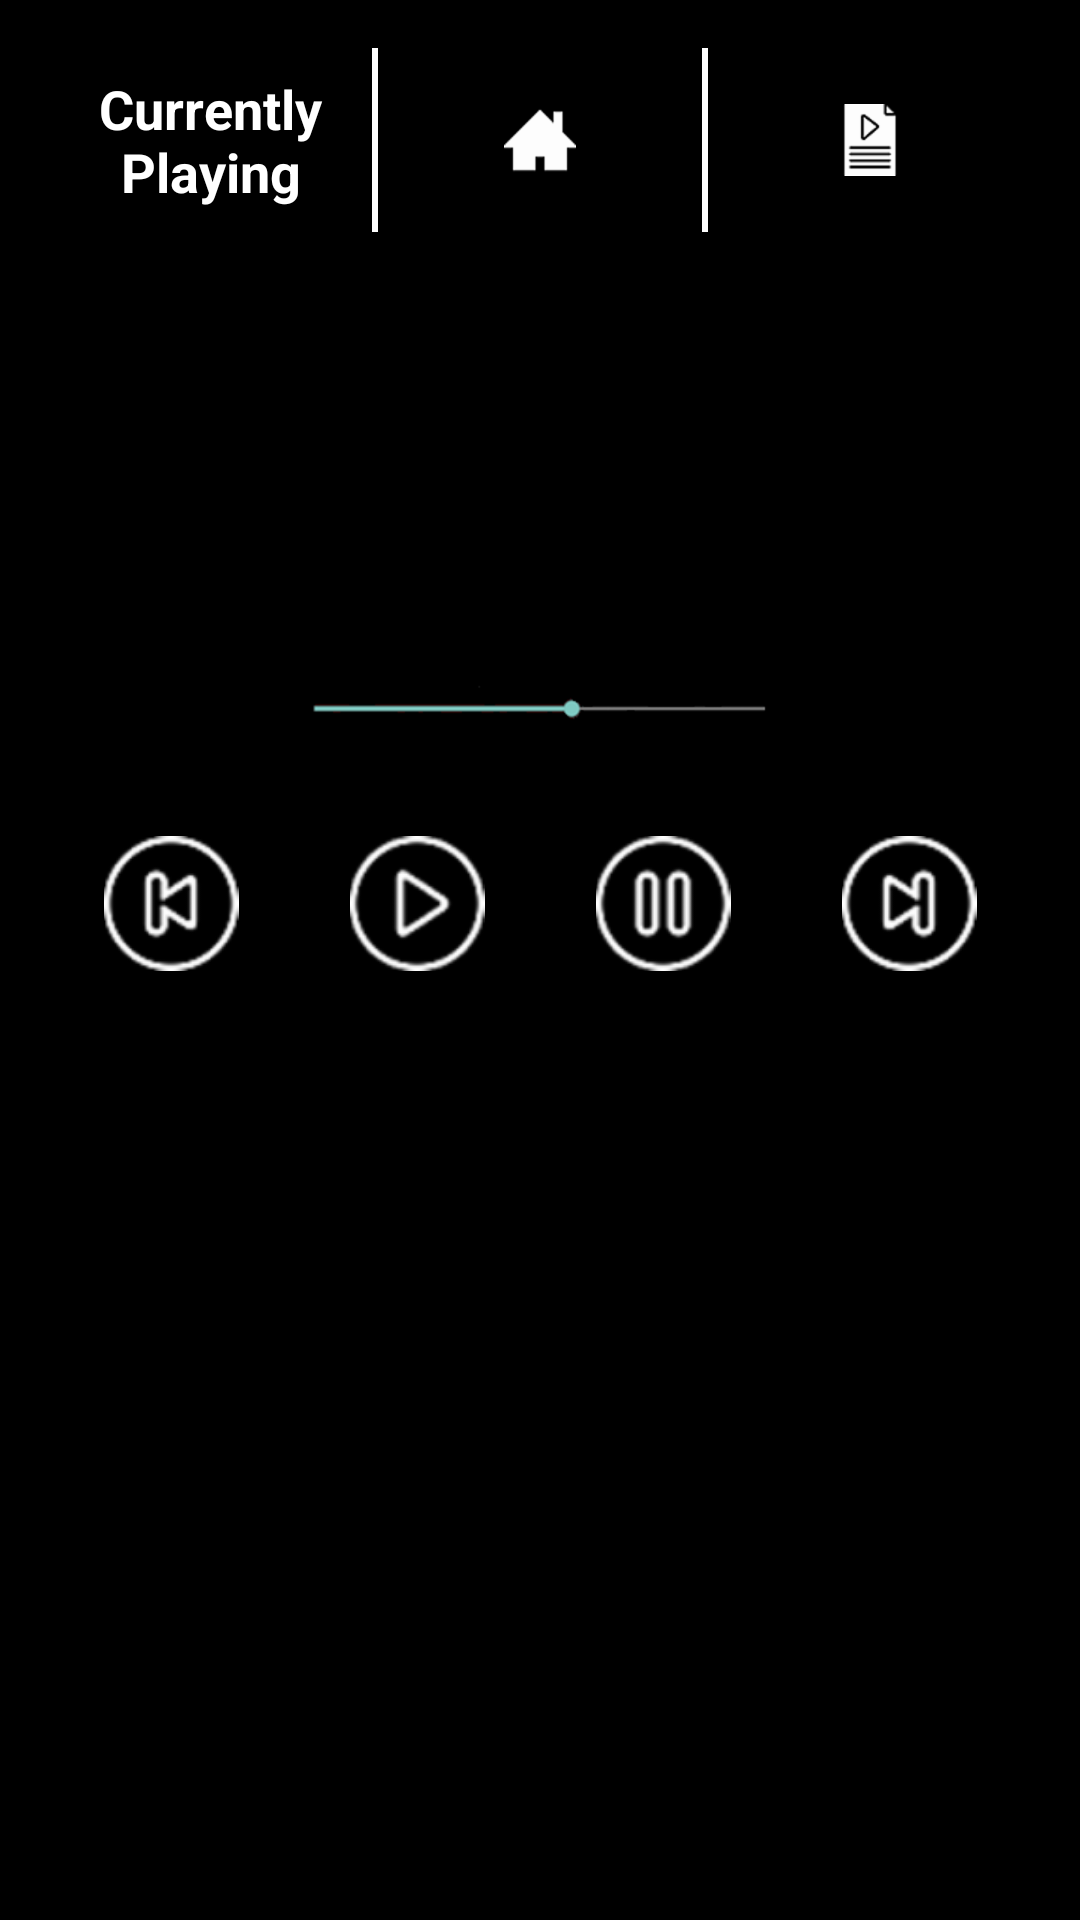

Icon click points for this 1080 × 1920 phone screenshot, format (x=x, y=y):
back: (x=171, y=903)
home: (x=540, y=140)
next: (x=909, y=903)
pause: (x=663, y=903)
play: (x=417, y=903)
playlist: (x=870, y=140)
